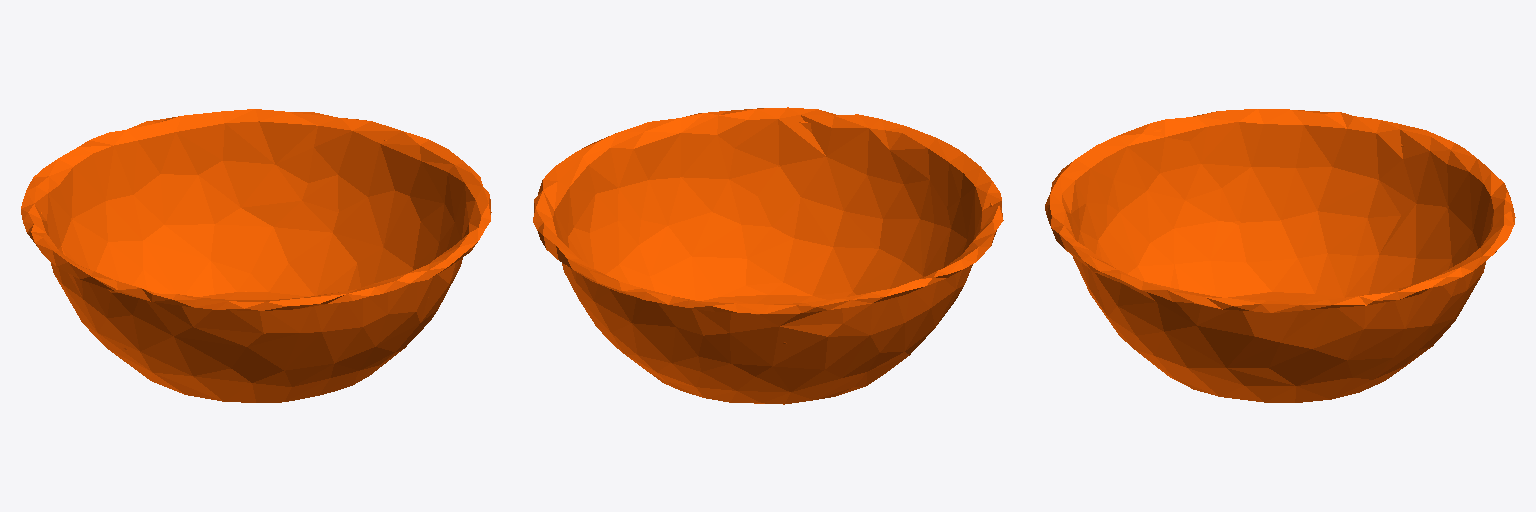
robot.urdf — 024_bowl:
<?xml version="1.0" ?>
<robot name="024_bowl">
   <material name="obj_color">
      <color rgba="1.0 0.423529411765 0.0392156862745 1.0"/>
   </material>
   <link name="top">
      <inertial>
         <origin rpy="0.0001367423441547062 0.0001424625428351665 0.0002352229605463181" xyz="0.001149652776247382 -0.002706041970340819 0.001119465085619246"/>
         <mass value="0.06249986450493315"/>
         <inertia ixx="0.0001422079592024719" ixy="1.176916960994001e-06" ixz="-3.804222075040608e-07" iyy="0.0001370223032597072" iyz="1.534108732840542e-06" izz="0.0002351975850740118"/>
      </inertial>
      <visual>
         <origin rpy="0 0 0" xyz="0 0 0"/>
         <geometry>
            <mesh filename="top_watertight_tiny.stl" scale="1 1 1"/>
         </geometry>
         <material name="obj_color"/>
      </visual>
      <collision>
         <origin rpy="0 0 0" xyz="0 0 0"/>
         <geometry>
            <mesh filename="top_watertight_tiny.obj" scale="1 1 1"/>
         </geometry>
      </collision>
   </link>
   <link name="bottom">
      <inertial>
         <origin rpy="1.633333333199431e-08 1.633333333199431e-08 1.633333333362855e-08" xyz="0.3464080000000008 0.3464080000000008 0.3464080000000008"/>
         <mass value="0.0009800000000000017"/>
         <inertia ixx="1.633333333253906e-08" ixy="5.447480642029219e-19" ixz="5.447480642029219e-19" iyy="1.633333333253906e-08" iyz="5.447480642029219e-19" izz="1.633333333253906e-08"/>
      </inertial>
      <visual>
         <origin rpy="0 0 0" xyz="0 0 0"/>
         <geometry>
            <mesh filename="bottom_watertight_tiny.stl" scale="1 1 1"/>
         </geometry>
         <material name="obj_color"/>
      </visual>
   </link>
   <link name="world"/>
   <joint name="world_to_base" type="fixed">
      <origin xyz="0 0 0"/>
      <axis xyz="0 0 0"/>
      <parent link="world"/>
      <child link="bottom"/>
   </joint>
   <joint name="rotation" type="revolute">
      <origin xyz="0 0 0"/>
      <axis xyz="0 0 -1"/>
      <parent link="bottom"/>
      <child link="top"/>
      <dynamics damping="1.0" friction="1.0"/>
      <limit effort="0.1" velocity="0.1" lower="0" upper="0.001"/>
   </joint>
</robot>

--- Render facts (derived) ---
Views: 3 orthographic renders of the robot side by side, from view 1: azimuth 30°, elevation 25°; view 2: azimuth 150°, elevation 25°; view 3: azimuth 270°, elevation 25°.
Model 024_bowl with 3 links and 2 joints (1 revolute, 1 fixed), rooted at world, posed all joints at 0.
Links seen in each view (by area): view 1: top; view 2: top; view 3: top.
Boxes of the visible links, x1,y1,x2,y2 form: top: (21, 109, 491, 402); top: (533, 107, 1003, 404); top: (1045, 109, 1515, 402).
Size in the robot's own frame: 0.16 by 0.1606 by 0.0549 metres.
1 mesh visuals loaded from 2 distinct referenced files (1 binary STL); not drawn: 1 (reference not matched to a file when rendering).
